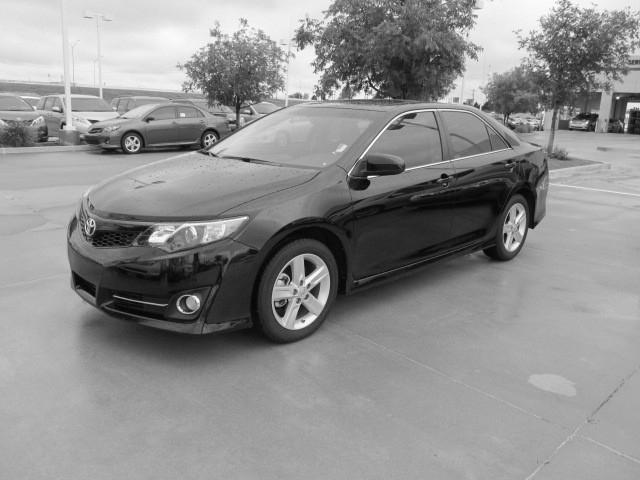car: (67, 101, 549, 345)
